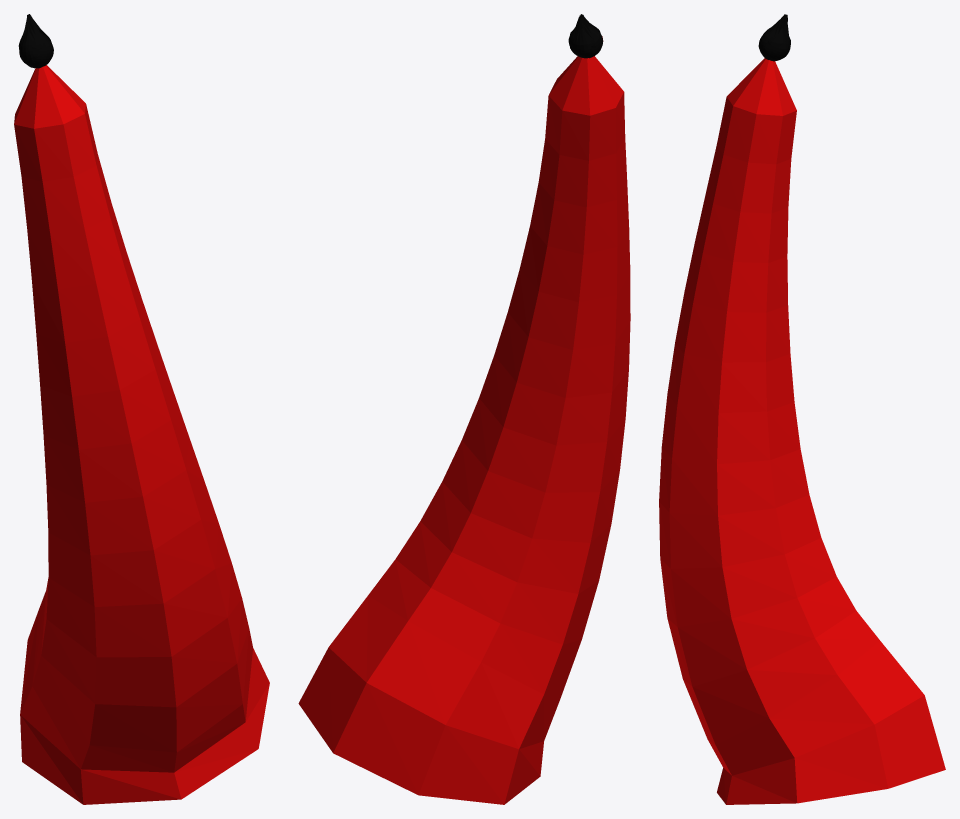
Rendered from Rose.glb.
The picture shows the model from 3 angles, left to right: view 1: azimuth 30°, elevation 25°; view 2: azimuth 150°, elevation 25°; view 3: azimuth 270°, elevation 25°; orthographic projection. The views are drawn at different scales.
Parts seen in each view (by area): view 1: Rose_Object; view 2: Rose_Object; view 3: Rose_Object.
Boxes of the visible parts, bbox=[...] form: Rose_Object: bbox=[14, 14, 269, 804]; Rose_Object: bbox=[298, 14, 630, 804]; Rose_Object: bbox=[659, 14, 945, 804].
Bounding box in the file's own units: 0.00295 × 0.00827 × 0.00292.
